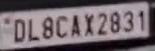character: (55, 15, 68, 38), (42, 16, 54, 39), (83, 13, 94, 37), (14, 18, 25, 41), (97, 13, 108, 36), (28, 19, 40, 40), (70, 15, 81, 37), (123, 10, 134, 32), (110, 11, 120, 33), (138, 10, 145, 31)
